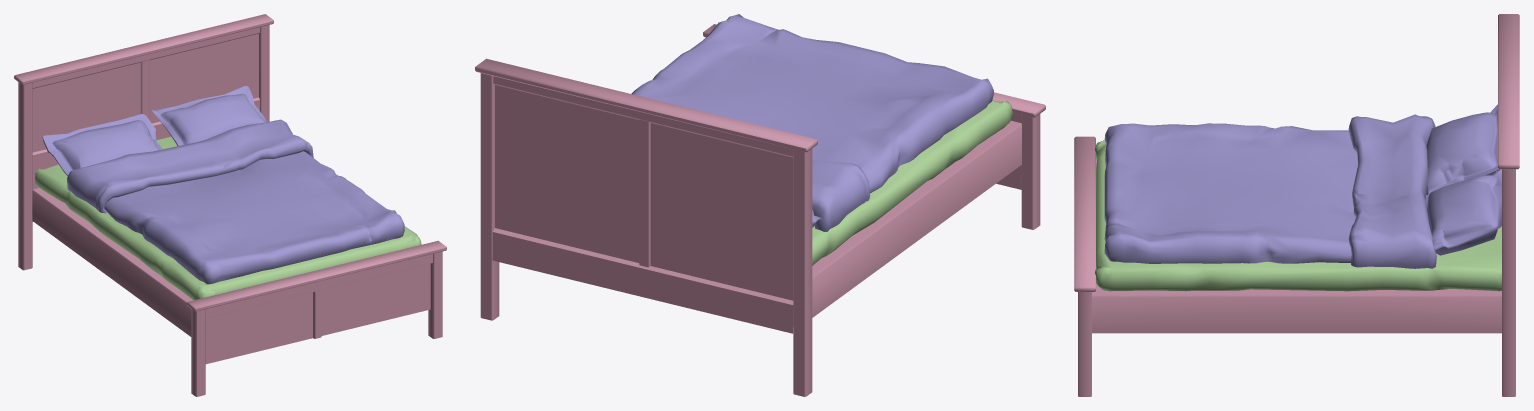
Rendered from bed.FBX.
3 views of the same model, side by side, from view 1: azimuth 30°, elevation 25°; view 2: azimuth 150°, elevation 25°; view 3: azimuth 270°, elevation 25° (orthographic). The views are drawn at different scales.
Parts seen in each view (by area): view 1: ASPELUNDBedframe; view 2: ASPELUNDBedframe; view 3: ASPELUNDBedframe.
Part boxes in pixels (bbox=[...]): ASPELUNDBedframe: bbox=[14, 14, 446, 396]; ASPELUNDBedframe: bbox=[475, 14, 1045, 396]; ASPELUNDBedframe: bbox=[1074, 14, 1519, 396].
Size of the model in its own units: 152 by 190 by 110.
